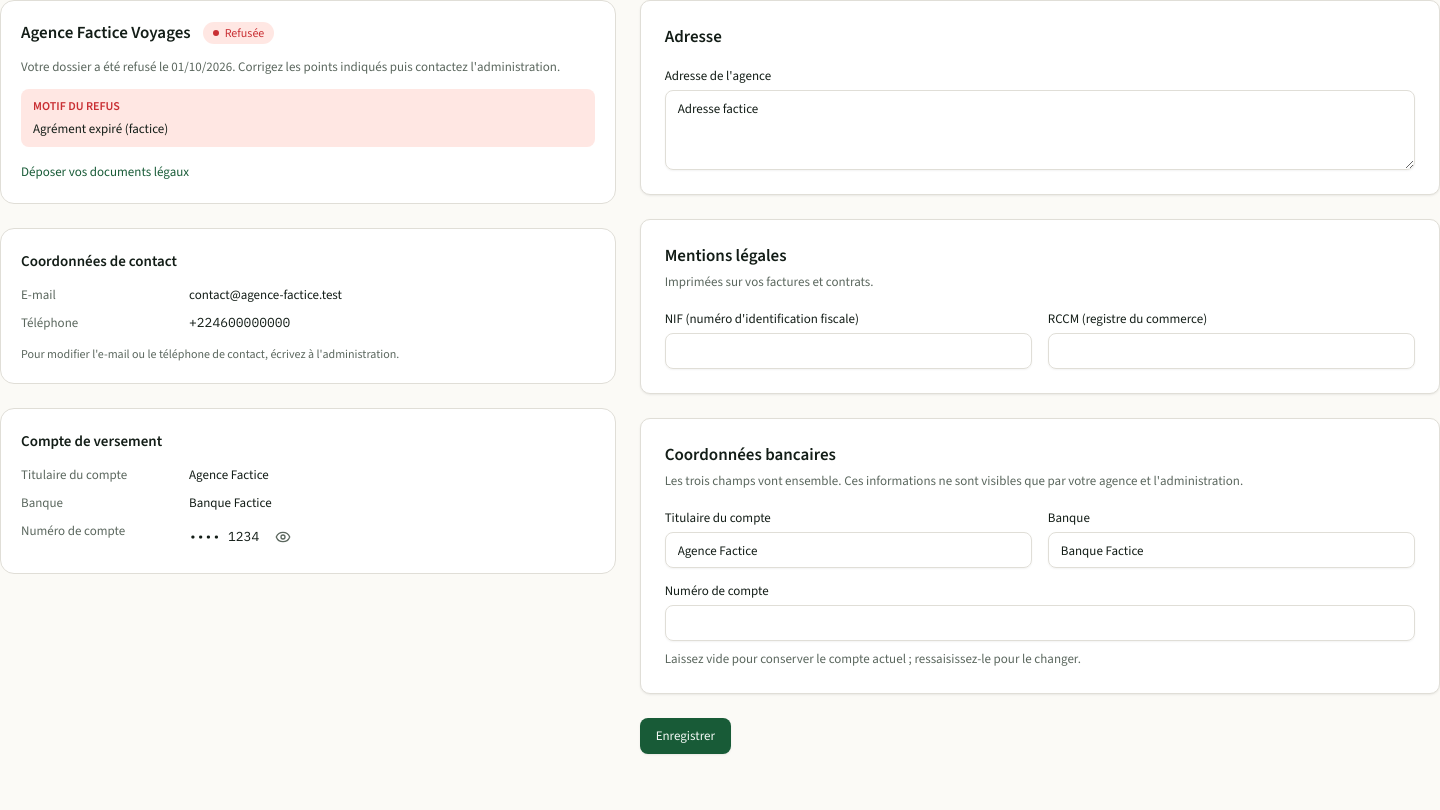
Scenario: MyAgencyScreen (ticket #47) › exige titulaire et banque avec un nouveau numéro de compte
Clear the field labelled "Banque" at {"x": 1231, "y": 550}, box x1=1048 y1=532 x2=1415 y2=568
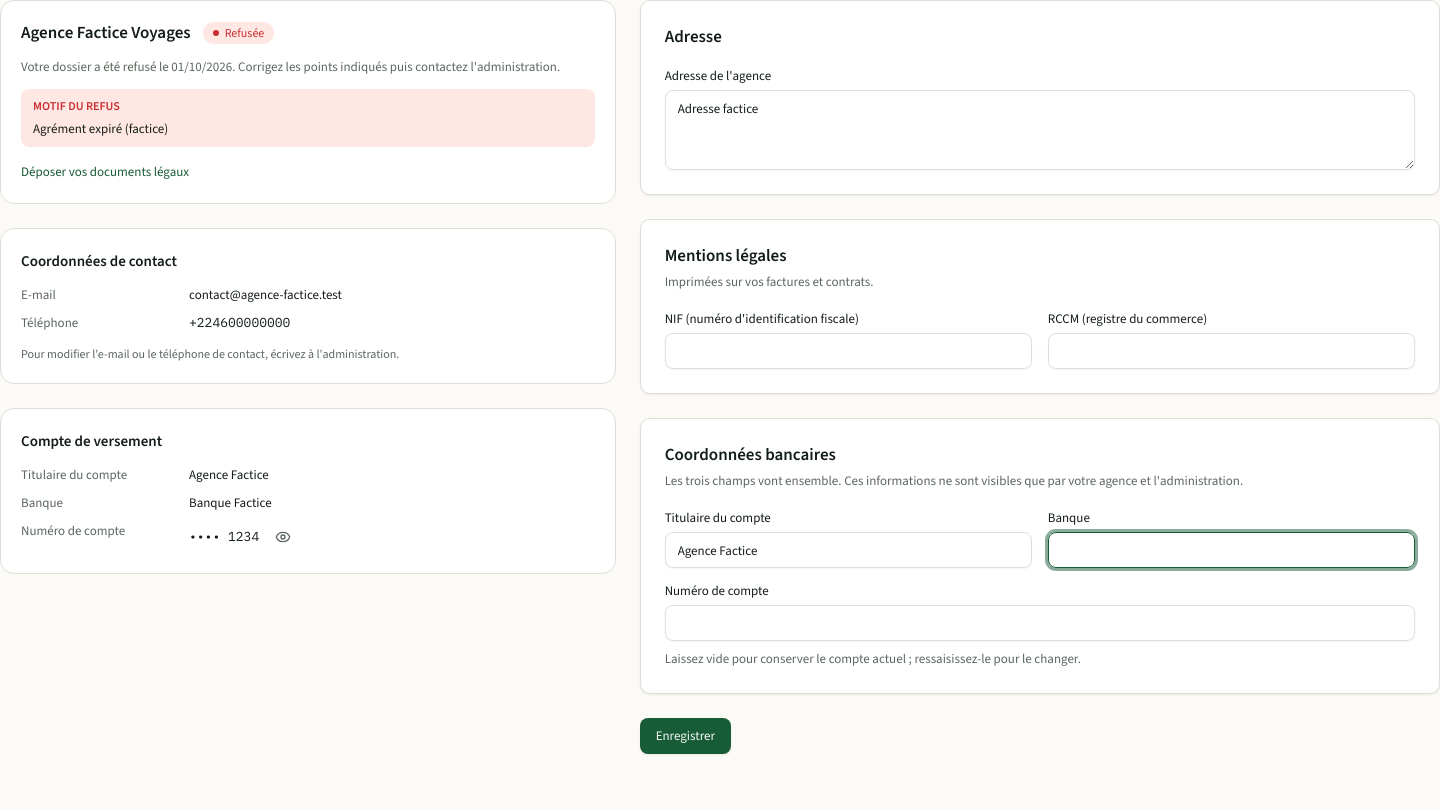
Type "FACTICE-99990000" into the field labelled "Numéro de compte" at {"x": 1040, "y": 623}, box x1=665 y1=605 x2=1415 y2=641
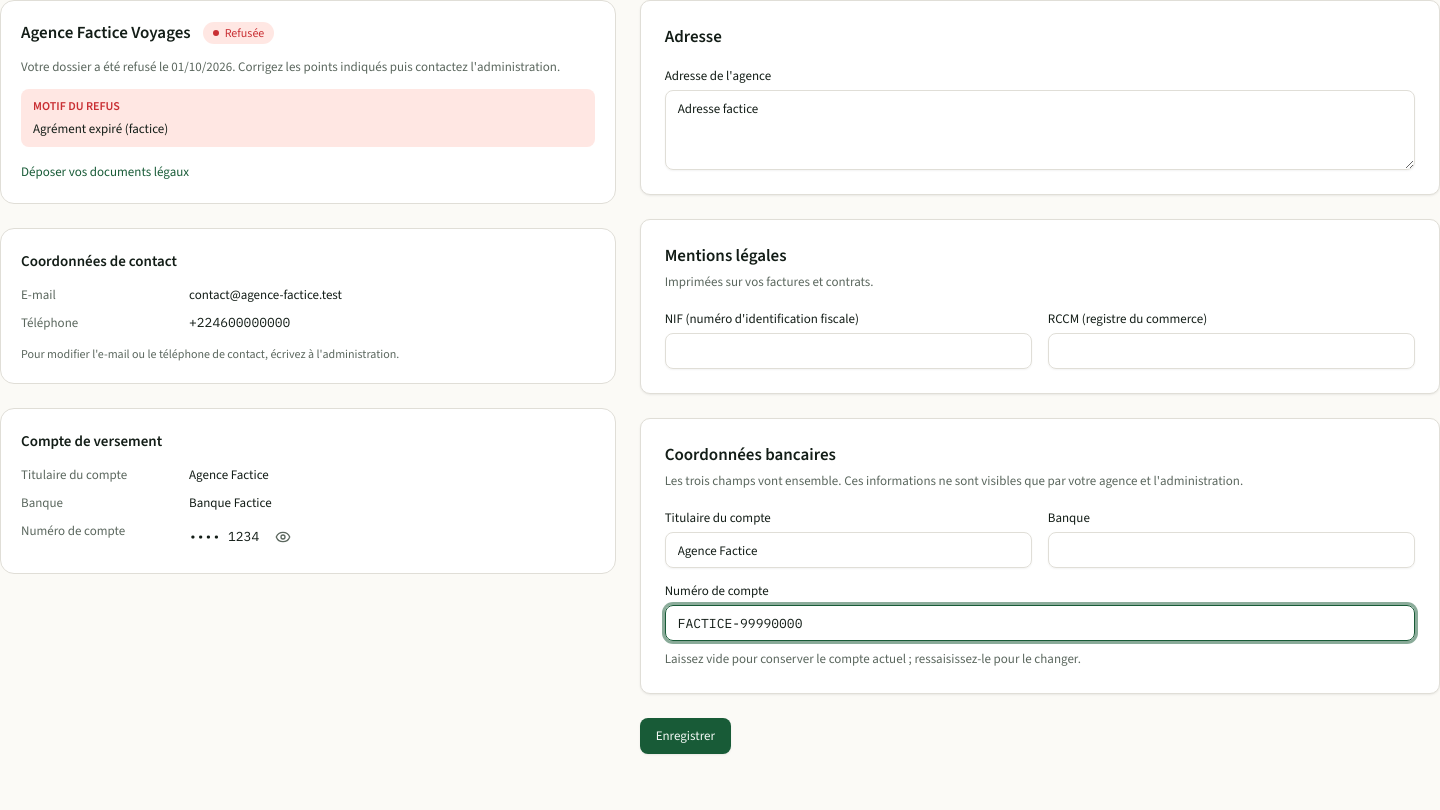
Click the button "Enregistrer" at {"x": 685, "y": 736}, box x1=640 y1=718 x2=731 y2=754
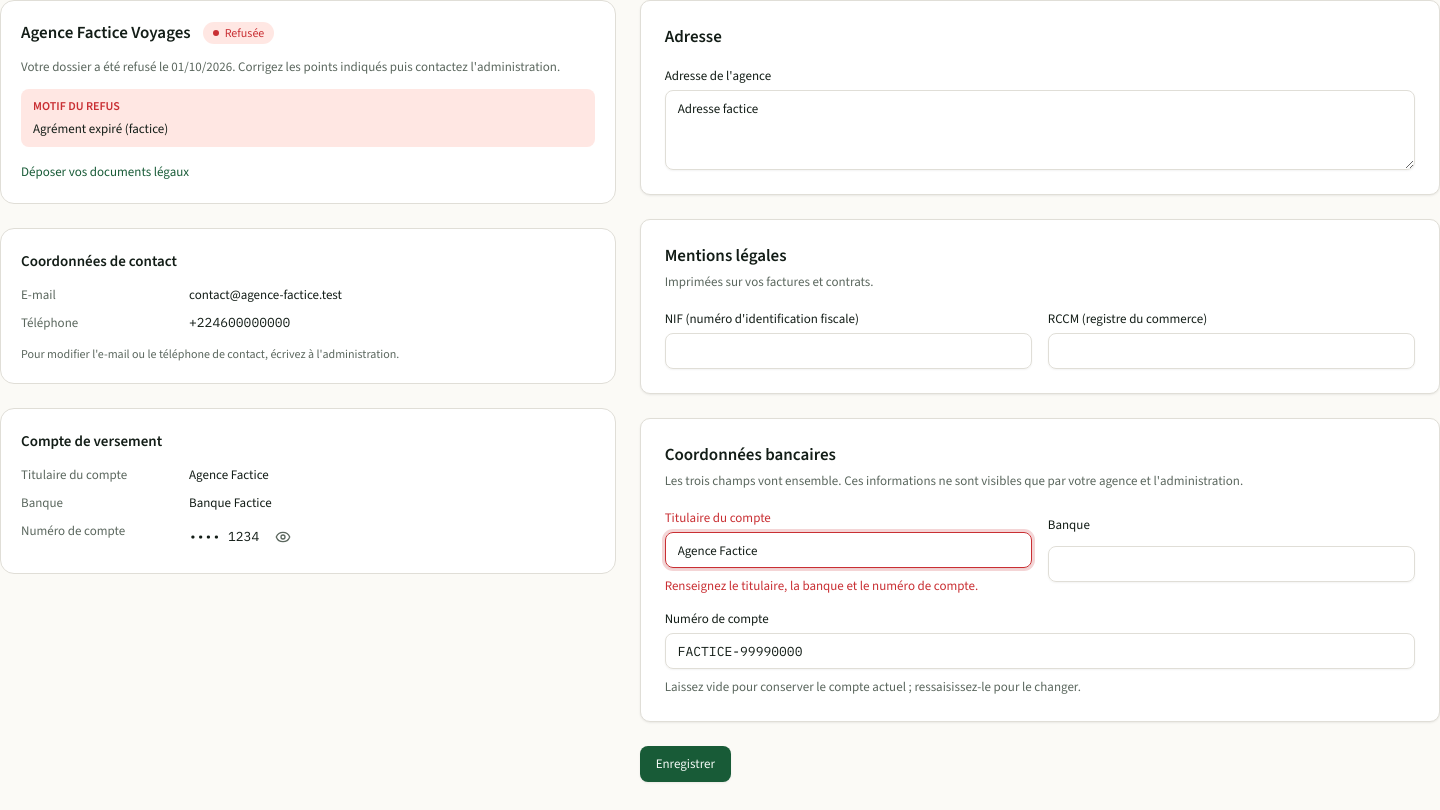
Check: the text "Renseignez le titulaire, la banque et le numéro de compte." is shown, box x1=665 y1=576 x2=1032 y2=596
